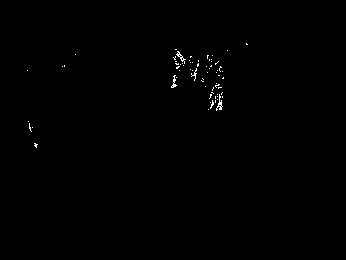person: (203, 56, 225, 111)
